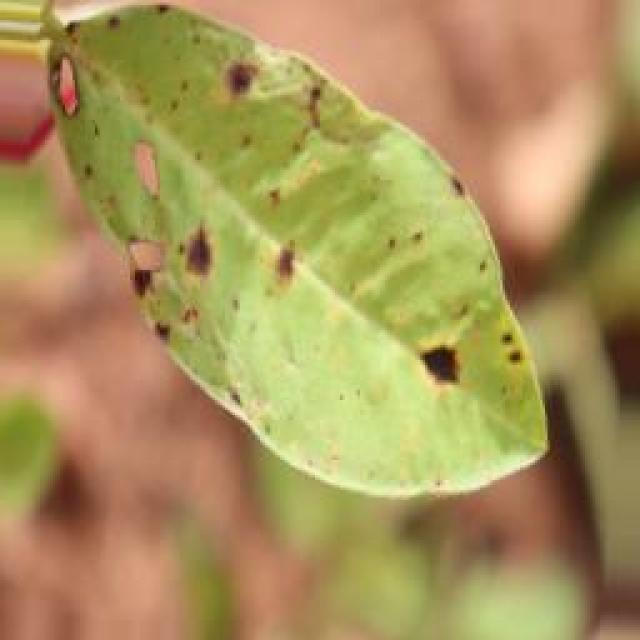Yellowish: (42, 1, 580, 497)
